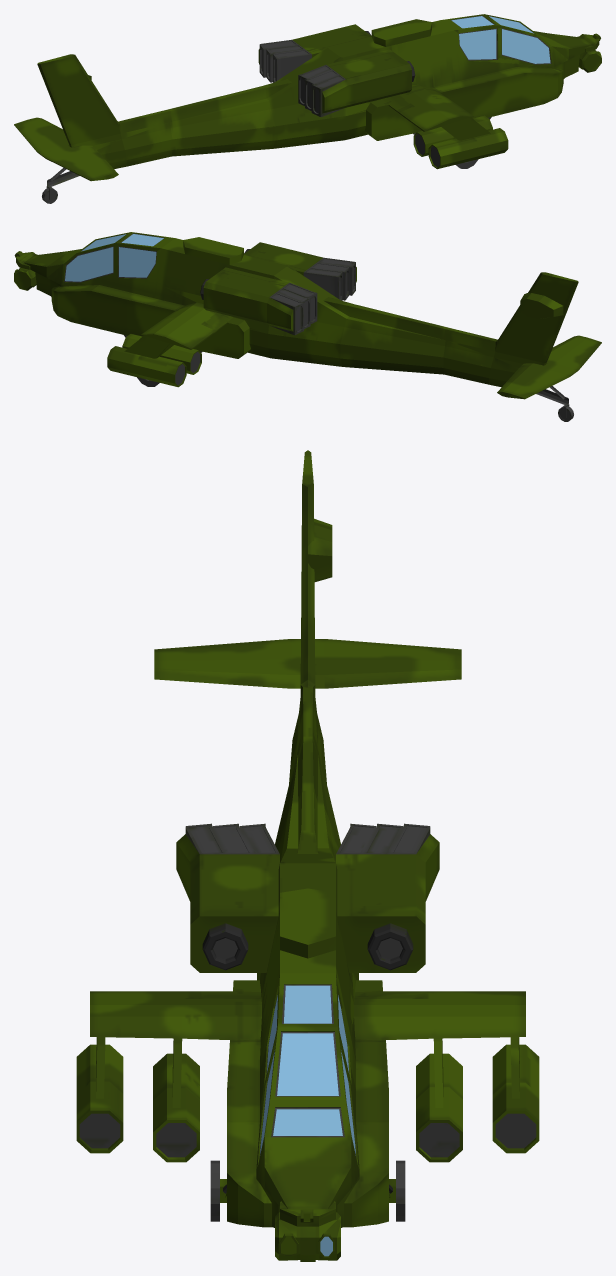
File: apache.fbx
3 views of the same model, one above another, from view 1: azimuth 30°, elevation 25°; view 2: azimuth 150°, elevation 25°; view 3: azimuth 270°, elevation 25° (orthographic). The views are drawn at different scales.
Parts seen in each view (by area): view 1: Body_Object_4_Object_0; view 2: Body_Object_4_Object_0; view 3: Body_Object_4_Object_0.
Boxes of the visible parts, x1,y1,x2,y2 form: Body_Object_4_Object_0: (14, 14, 601, 203); Body_Object_4_Object_0: (14, 232, 601, 421); Body_Object_4_Object_0: (76, 450, 539, 1261).
Size of the model in its own units: 0.7279 by 0.6467 by 2.04.
Materials: 2 (1 with a texture image).
